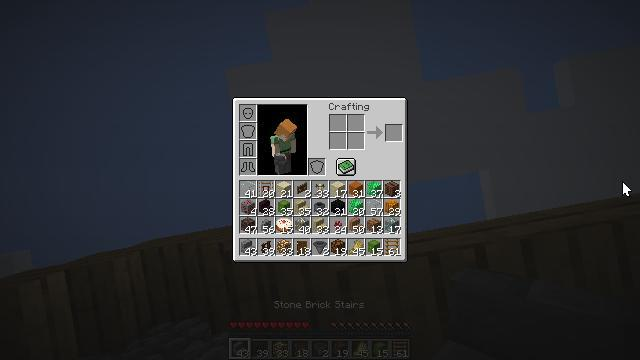cursor: (622, 181, 632, 197)
